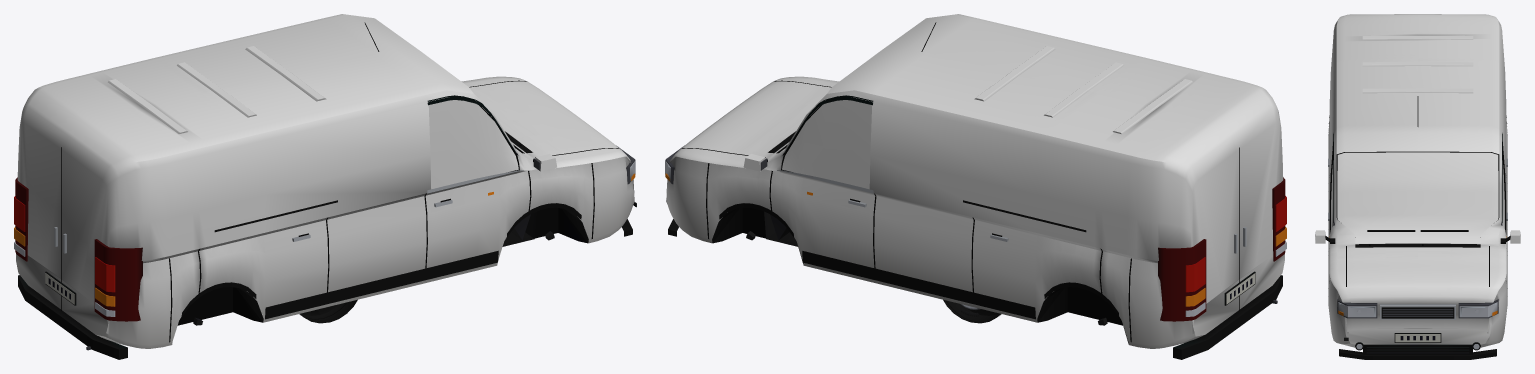
Rendered from van-mid.glb.
The picture shows the model from 3 angles, left to right: view 1: azimuth 30°, elevation 25°; view 2: azimuth 150°, elevation 25°; view 3: azimuth 270°, elevation 25°; orthographic projection. The views are drawn at different scales.
Parts seen in each view (by area): view 1: paint, detail, glass, wheel; view 2: paint, detail, glass, wheel; view 3: paint, glass, detail.
Boxes of the visible parts, x1,y1,x2,y2 form: paint: (16, 14, 634, 348); detail: (14, 22, 636, 359); glass: (428, 100, 521, 189); wheel: (299, 299, 357, 323); paint: (666, 14, 1284, 348); detail: (665, 22, 1286, 359); glass: (780, 100, 871, 189); wheel: (943, 299, 1001, 323); paint: (1315, 14, 1520, 347); glass: (1331, 152, 1504, 243); detail: (1325, 96, 1510, 359).
Size of the model in its own units: 1.8 by 0.9223 by 0.7656.
